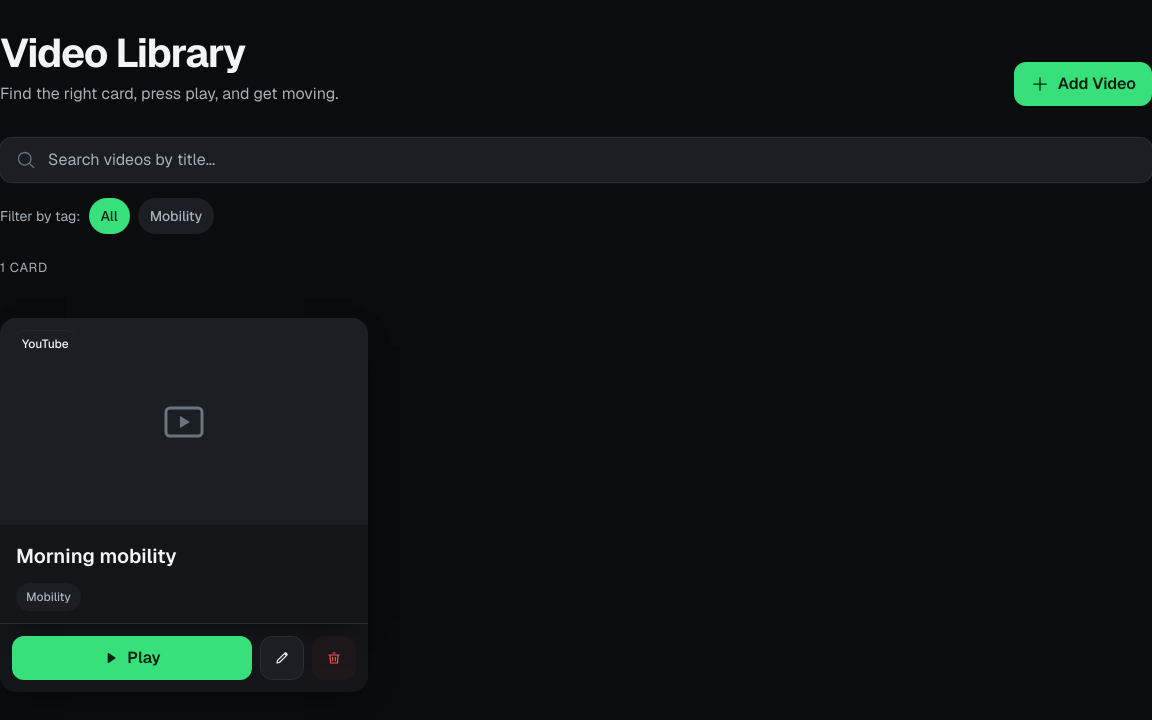
VideosPage › does not let an in-flight filtered response overwrite cleared results
Type "morning" into the search field labelled "Search videos".
click(576, 160); type("morning")  # box [0, 138, 1151, 182]
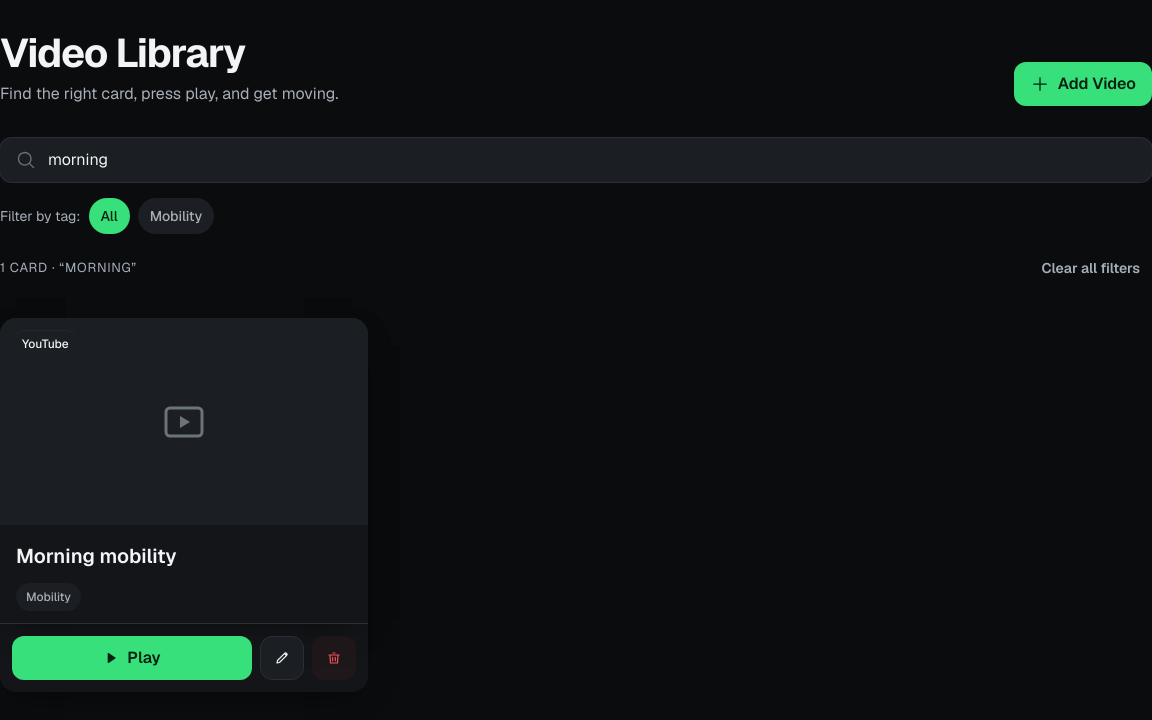
Click the button "Mobility".
click(176, 216)  # box [138, 198, 214, 234]
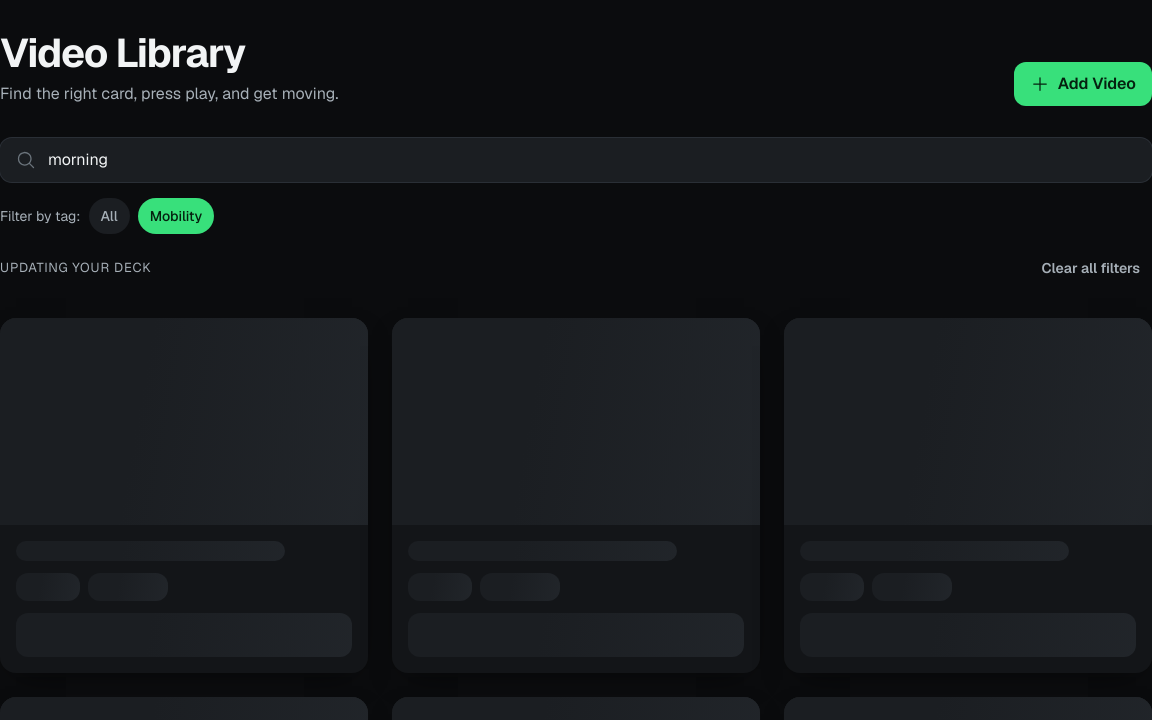
Click the button "Clear all filters".
click(1091, 268)  # box [1030, 250, 1151, 286]
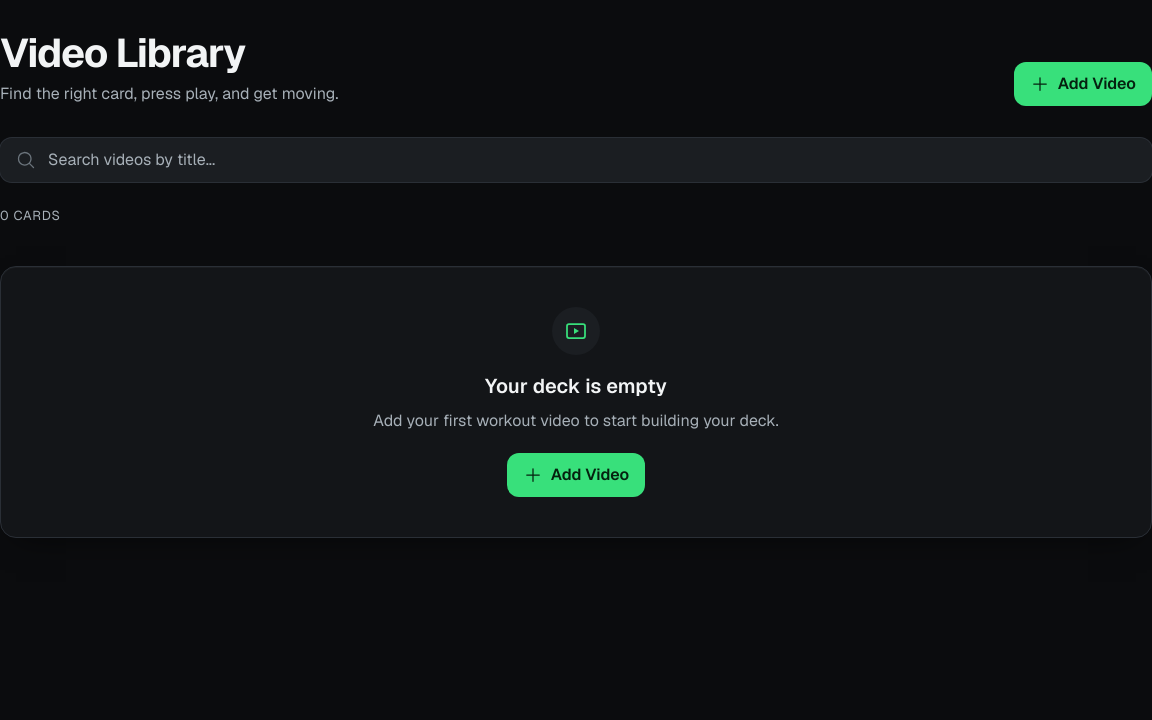
Expected: the link "Morning mobility" is not shown
Now the heading "Your deck is empty" is shown, box [485, 371, 667, 401]
